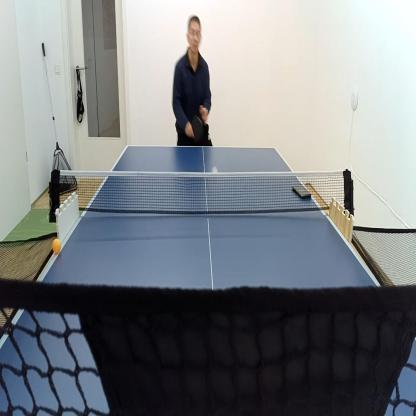Ball: (53, 237, 61, 253), (212, 167, 216, 174)
